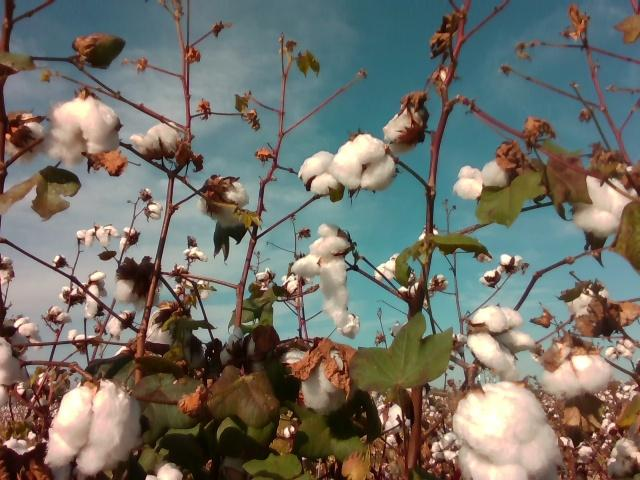cotton_ready: (455, 384, 559, 480), (45, 380, 141, 472), (469, 306, 536, 383), (49, 97, 120, 168), (571, 176, 640, 236), (283, 349, 350, 409), (312, 224, 350, 329), (330, 135, 396, 190), (542, 354, 614, 396), (0, 330, 29, 407), (197, 176, 249, 218), (6, 112, 49, 161), (455, 162, 510, 200), (299, 150, 342, 196), (131, 122, 182, 160), (114, 277, 159, 312), (383, 108, 422, 144), (569, 287, 608, 322), (610, 439, 640, 480), (147, 308, 179, 346), (290, 256, 318, 278), (143, 465, 184, 480)
